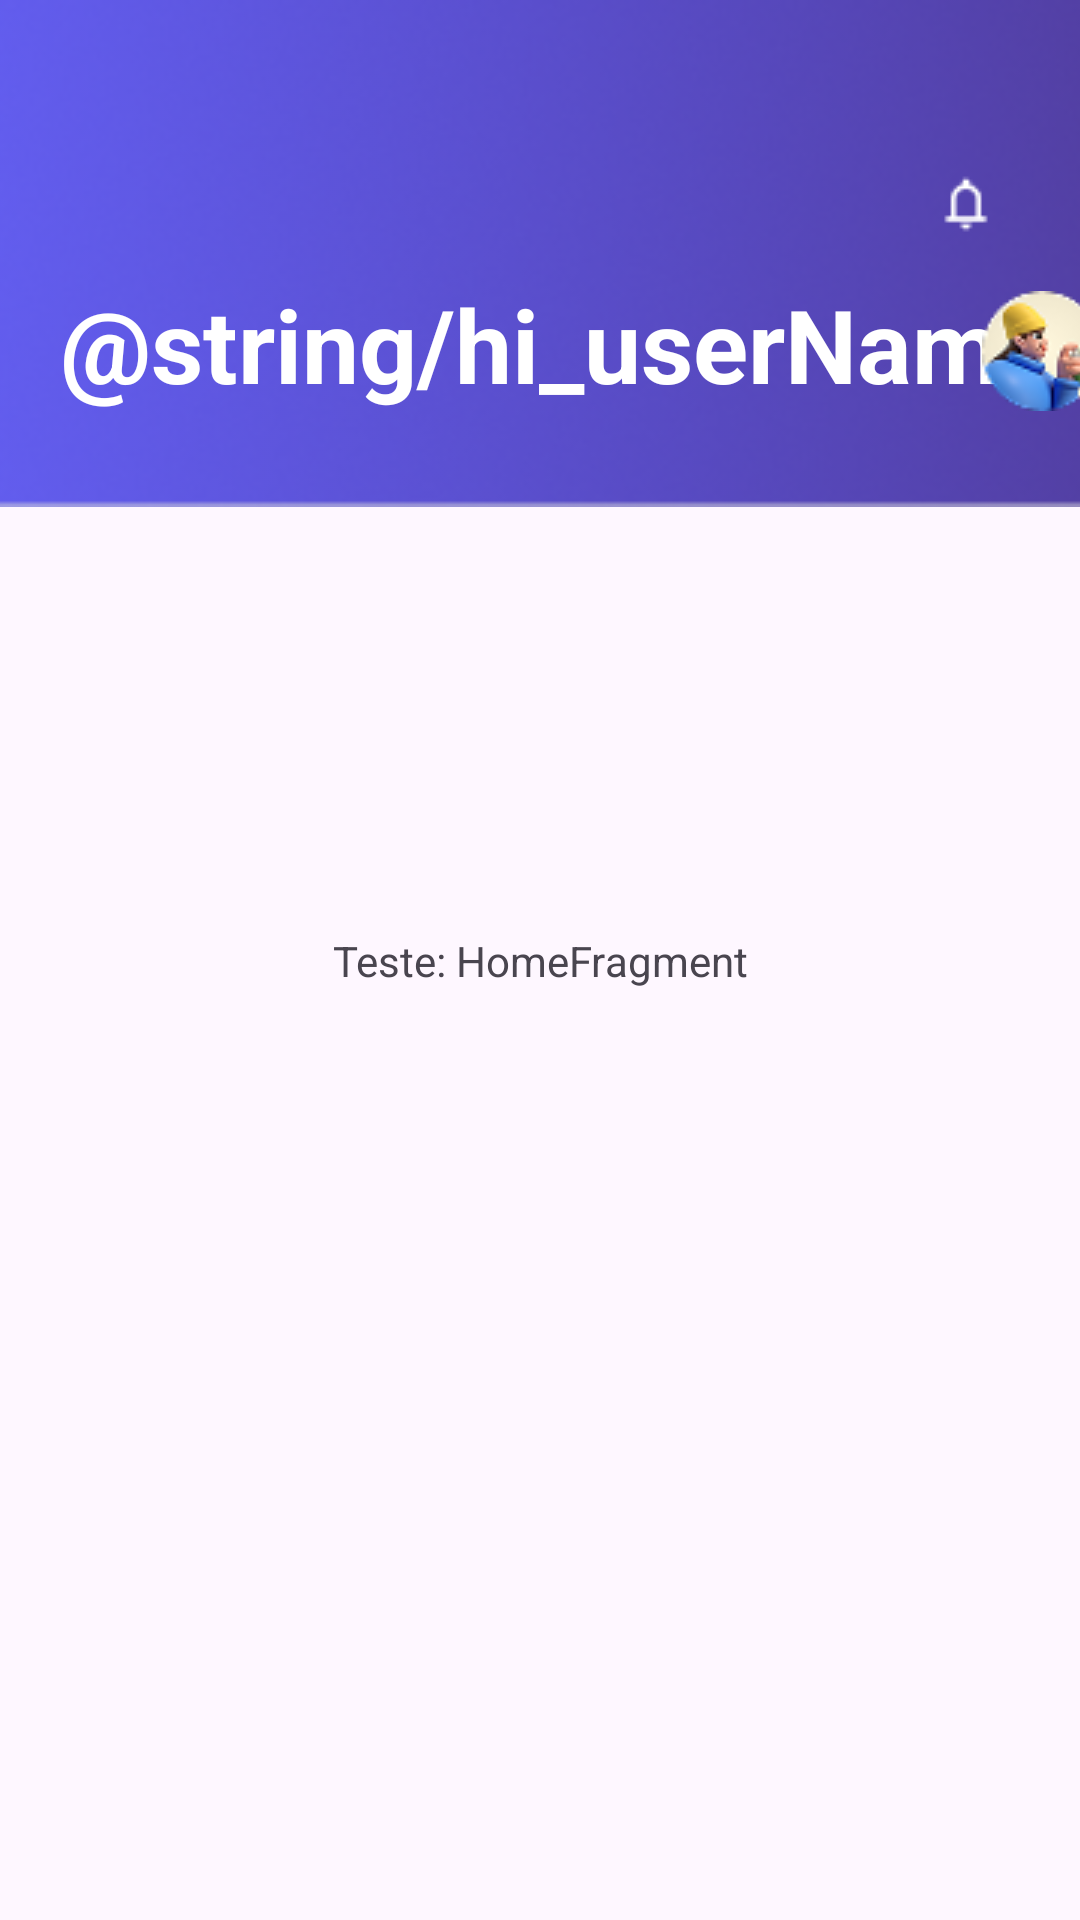

Icon click points for this 1080px×1920px phone screenshot, format [x,y]:
bell: [966,204]
